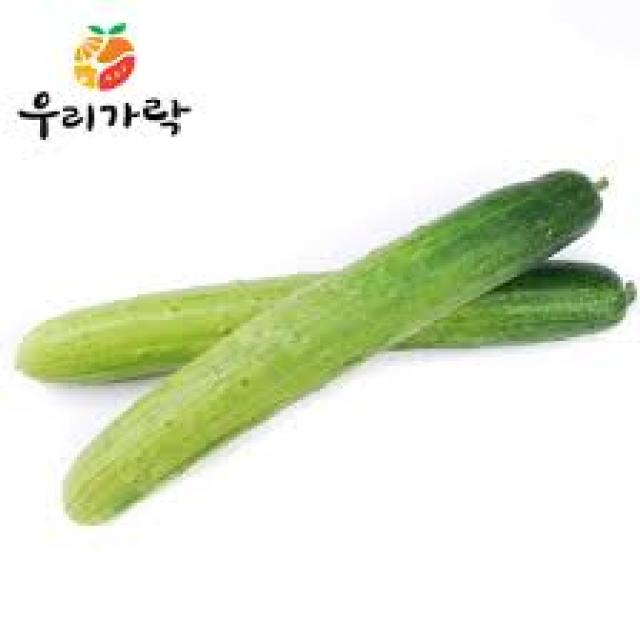cucumber: (66, 171, 600, 526)
